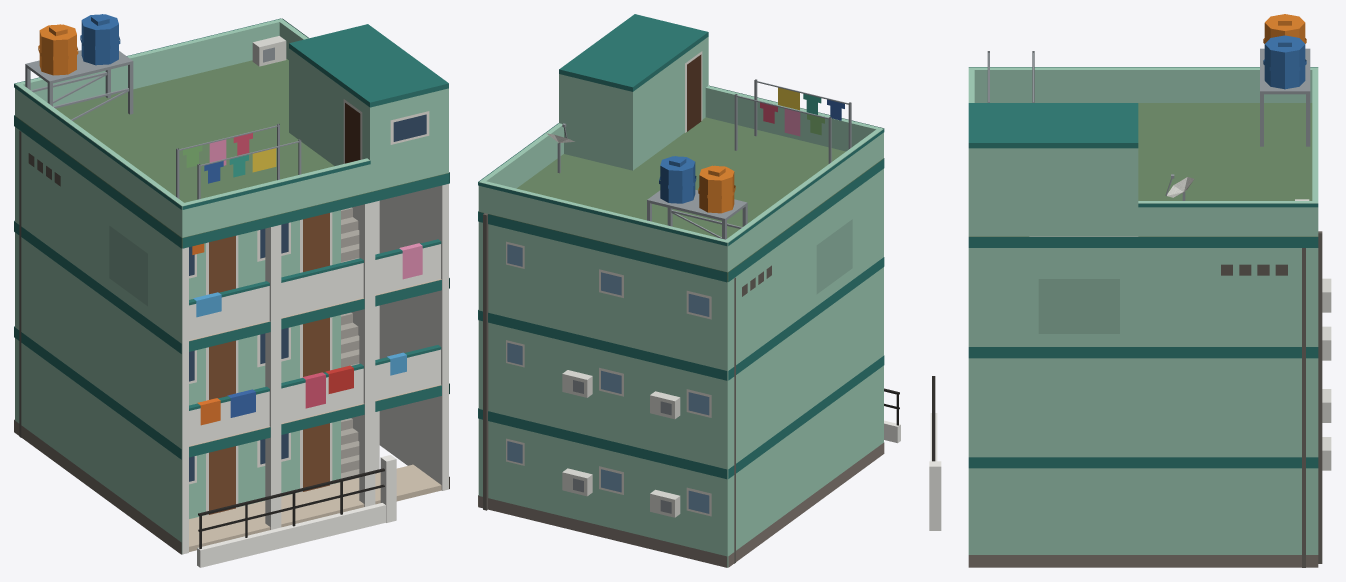
File: kos_00.glb
3 views of the same model, side by side, from view 1: azimuth 30°, elevation 25°; view 2: azimuth 150°, elevation 25°; view 3: azimuth 270°, elevation 25° (orthographic). The views are drawn at different scales.
Visible parts, largest first — view 1: kos_00; view 2: kos_00; view 3: kos_00.
Boxes of the visible parts, x1,y1,x2,y2 form: kos_00: (14,14,449,567); kos_00: (478,14,900,567); kos_00: (929,14,1331,567).
Size of the model in its own units: 8.01 by 11.62 by 9.92.
